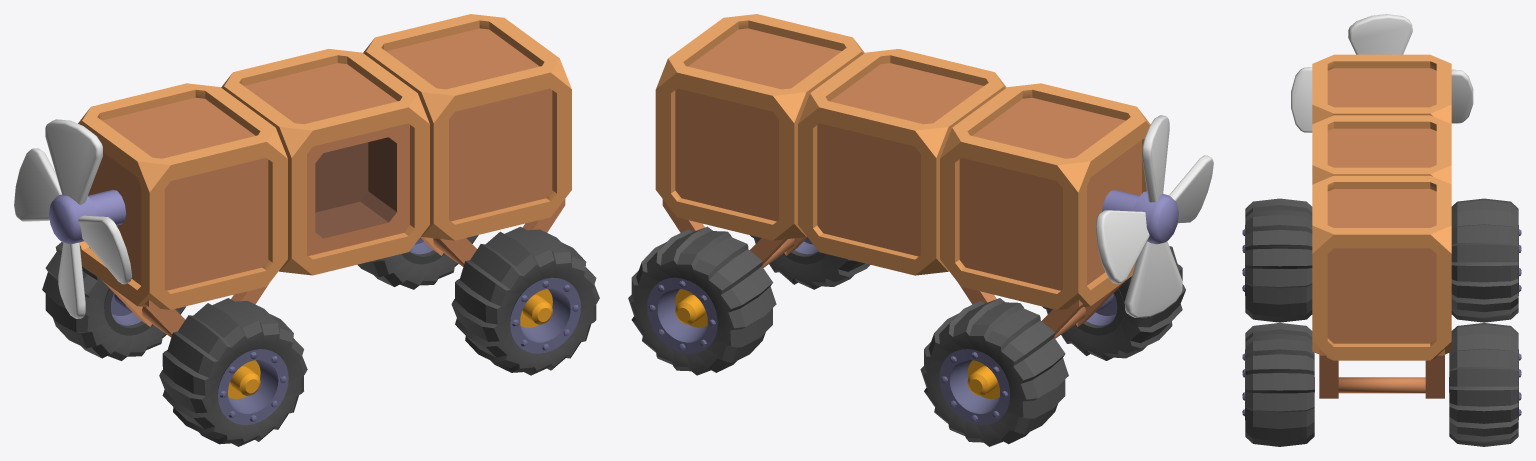
File: Machine.glb
3 renders of one model, left to right at view 1: azimuth 30°, elevation 25°; view 2: azimuth 150°, elevation 25°; view 3: azimuth 270°, elevation 25°, orthographic. The views are drawn at different scales.
Visible parts, largest first — view 1: Box, Box.001, DBlock_Full.001, wheel_front, wheel_back, booster, wheel_back.001, wheel_front.001, frame_wheel, frame_wheel.001; view 2: Box, Box.001, DBlock_Full.001, wheel_front.001, wheel_back.001, booster, wheel_back, wheel_front, frame_wheel, frame_wheel.001; view 3: Box.001, Box, DBlock_Full.001, wheel_front, wheel_front.001, wheel_back, wheel_back.001, booster, frame_wheel.001.
Part boxes in pixels (x1=…): Box: x1=78, y1=83, x2=287, y2=309; Box.001: x1=363, y1=14, x2=571, y2=240; DBlock_Full.001: x1=221, y1=49, x2=429, y2=275; wheel_front: x1=451, y1=226, x2=599, y2=375; wheel_back: x1=159, y1=298, x2=307, y2=446; booster: x1=14, y1=119, x2=131, y2=318; wheel_back.001: x1=42, y1=242, x2=185, y2=360; wheel_front.001: x1=357, y1=235, x2=478, y2=289; frame_wheel: x1=102, y1=280, x2=268, y2=337; frame_wheel.001: x1=420, y1=199, x2=565, y2=266; Box: x1=940, y1=83, x2=1150, y2=309; Box.001: x1=655, y1=14, x2=864, y2=240; DBlock_Full.001: x1=798, y1=49, x2=1006, y2=275; wheel_front.001: x1=628, y1=226, x2=776, y2=375; wheel_back.001: x1=920, y1=298, x2=1068, y2=446; booster: x1=1095, y1=115, x2=1213, y2=317; wheel_back: x1=1042, y1=246, x2=1185, y2=360; wheel_front: x1=750, y1=235, x2=870, y2=289; frame_wheel: x1=959, y1=281, x2=1124, y2=338; frame_wheel.001: x1=662, y1=199, x2=807, y2=267; Box.001: x1=1312, y1=175, x2=1451, y2=360; Box: x1=1312, y1=54, x2=1451, y2=124; DBlock_Full.001: x1=1312, y1=115, x2=1451, y2=184; wheel_front: x1=1242, y1=323, x2=1314, y2=446; wheel_front.001: x1=1449, y1=323, x2=1521, y2=446; wheel_back: x1=1242, y1=198, x2=1312, y2=322; wheel_back.001: x1=1451, y1=198, x2=1521, y2=322; booster: x1=1291, y1=14, x2=1473, y2=132; frame_wheel.001: x1=1319, y1=349, x2=1444, y2=398.
Bounding box in the file's own units: 8.55 × 5.07 × 4.99.
Materials: 1 (1 with a texture image).
